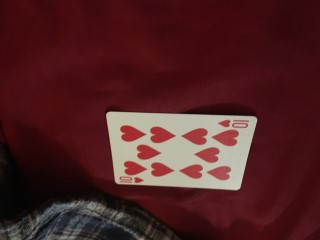TenOfHearts: (106, 111, 257, 190)
